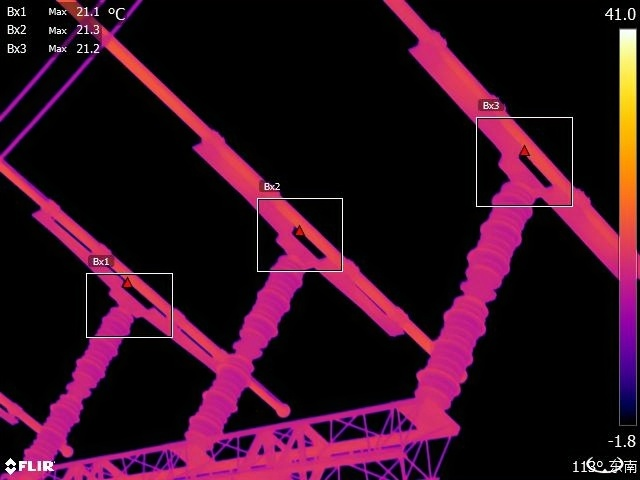post insulator: (401, 167, 545, 412), (6, 291, 141, 476), (184, 255, 309, 441)
